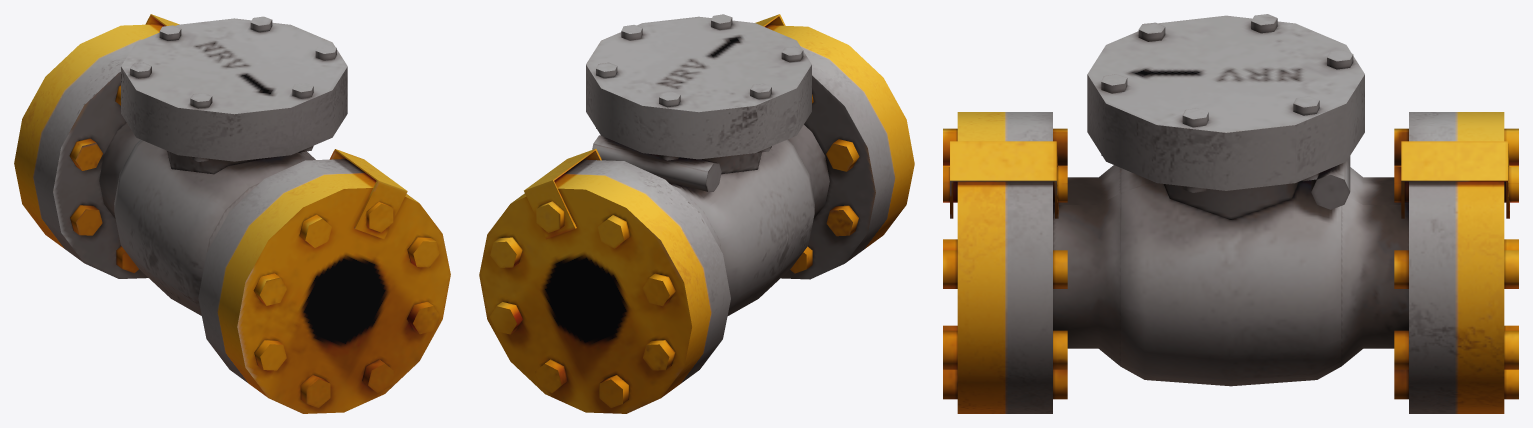
The model's file is NRV2S1IN.fbx.
3 views of the same model, side by side, from view 1: azimuth 30°, elevation 25°; view 2: azimuth 150°, elevation 25°; view 3: azimuth 270°, elevation 25° (orthographic). The views are drawn at different scales.
Visible parts, largest first — view 1: NRV2S1IN2; view 2: NRV2S1IN2; view 3: NRV2S1IN2.
Part boxes in pixels (bbox=[...]): NRV2S1IN2: bbox=[14, 14, 450, 413]; NRV2S1IN2: bbox=[479, 14, 914, 413]; NRV2S1IN2: bbox=[943, 14, 1518, 413].
Bounding box in the file's own units: 21.81 × 26.58 × 41.57.
1 material, 1 textured.
